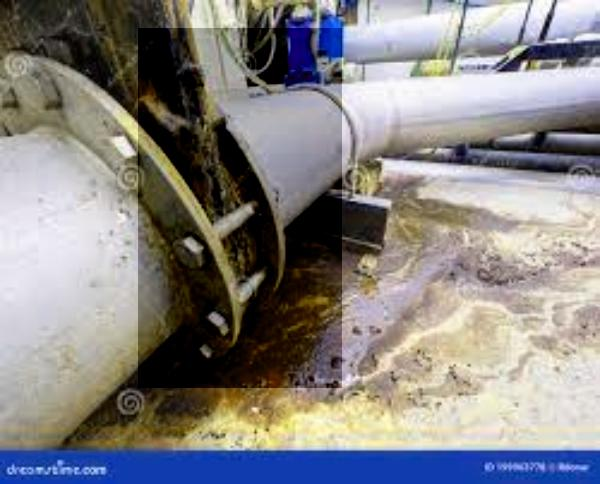water: (138, 28, 342, 388)
